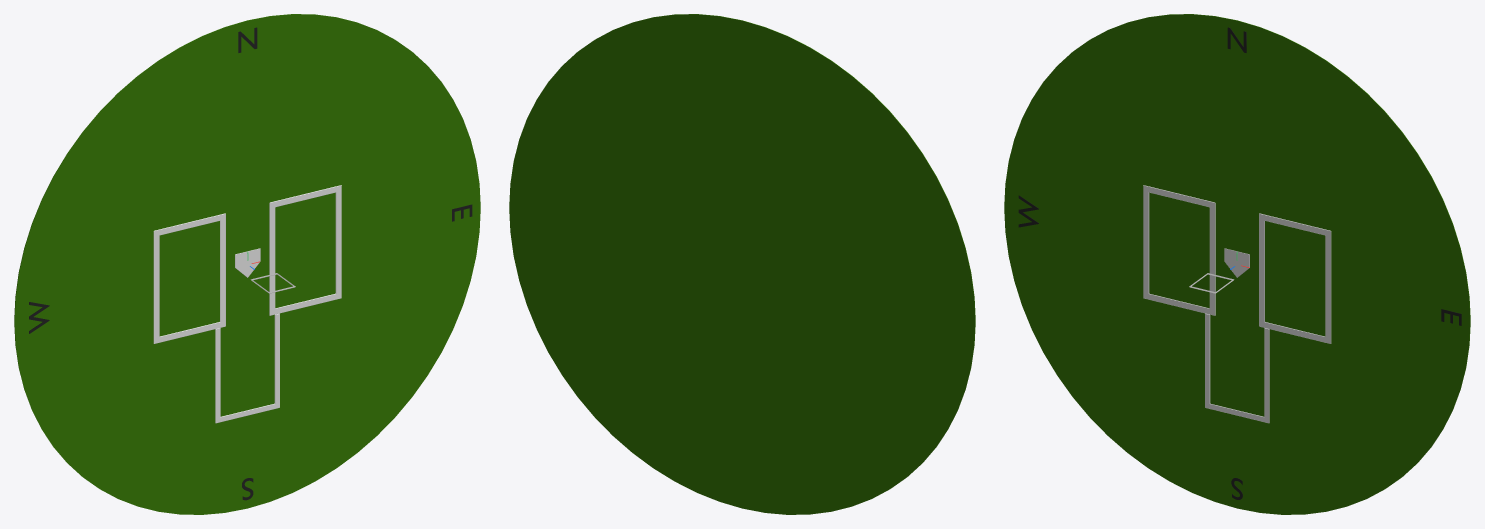
The model's file is HomePlate.glb.
The picture shows the model from 3 angles, left to right: view 1: azimuth 30°, elevation 25°; view 2: azimuth 150°, elevation 25°; view 3: azimuth 330°, elevation 25°; orthographic projection.
Visible parts, largest first — view 1: Circle, BatterBox, CatcherBox, HomePlate; view 2: Circle; view 3: Circle, BatterBox, CatcherBox, HomePlate.
Part boxes in pixels (<box>): Circle: <box>14,14,480,514</box>; BatterBox: <box>153,185,341,343</box>; CatcherBox: <box>215,313,279,423</box>; HomePlate: <box>235,248,260,277</box>; Circle: <box>509,14,975,514</box>; Circle: <box>1004,14,1470,514</box>; BatterBox: <box>1143,185,1331,343</box>; CatcherBox: <box>1205,313,1269,423</box>; HomePlate: <box>1224,248,1249,277</box>.
Bounding box in the file's own units: 7.87 × 7.87 × 1.03.
